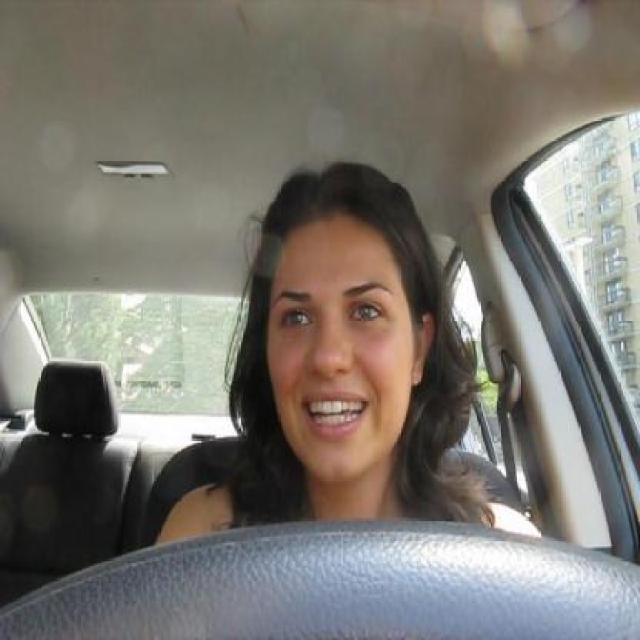awake: (350, 301, 382, 324), (280, 307, 312, 330)
